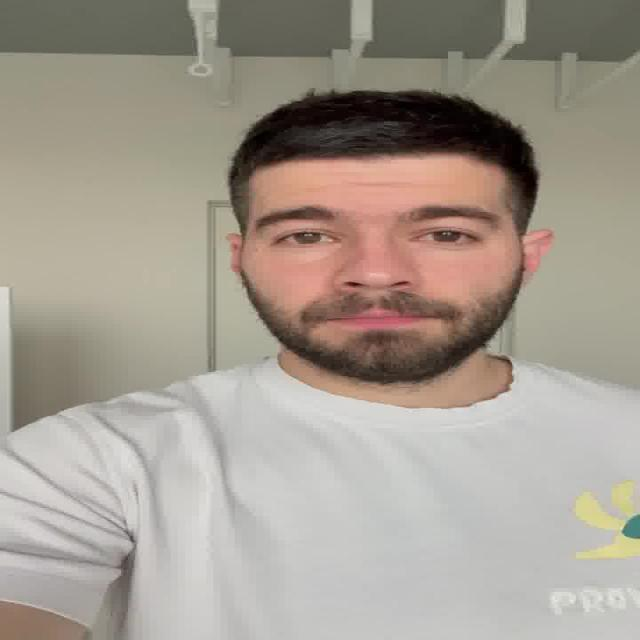earlobe: (519, 228, 555, 286), (224, 232, 244, 276)
